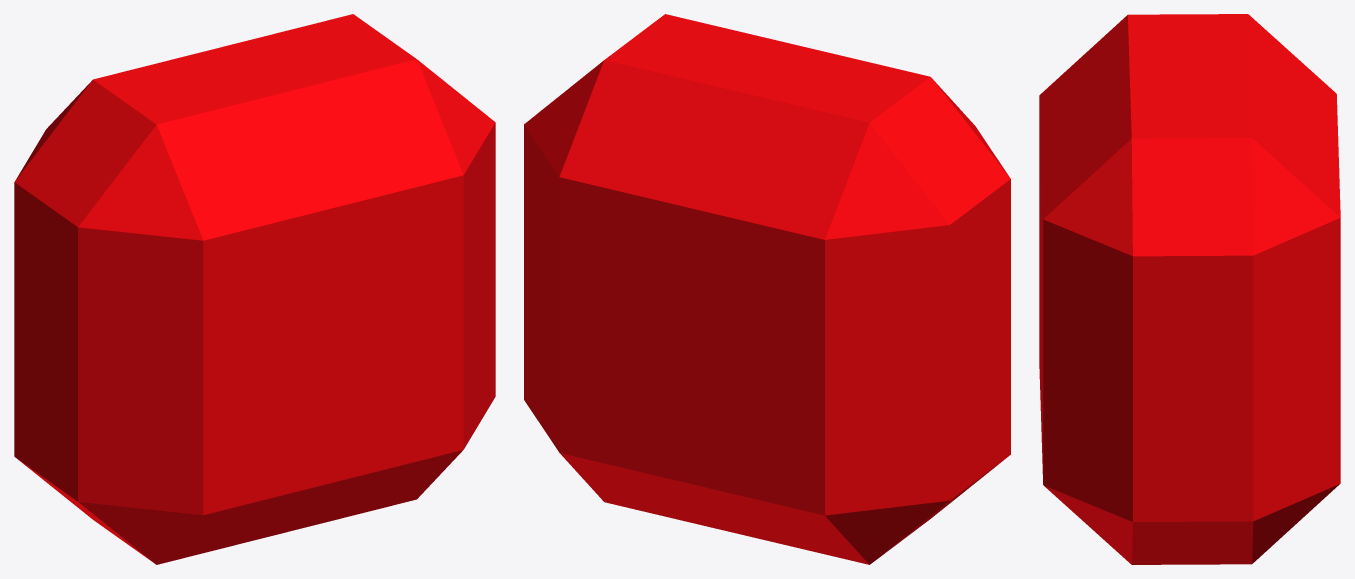
Rendered from red_gem.glb.
3 renders of one model, left to right at view 1: azimuth 30°, elevation 25°; view 2: azimuth 150°, elevation 25°; view 3: azimuth 270°, elevation 25°, orthographic. The views are drawn at different scales.
Parts seen in each view (by area): view 1: ruby; view 2: ruby; view 3: ruby.
Boxes of the visible parts, box(x1,y1,x2,y2) form: ruby: box(14, 14, 495, 564); ruby: box(524, 14, 1010, 564); ruby: box(1039, 14, 1340, 564).
Bounding box in the file's own units: 2.01 × 2 × 1.28.
